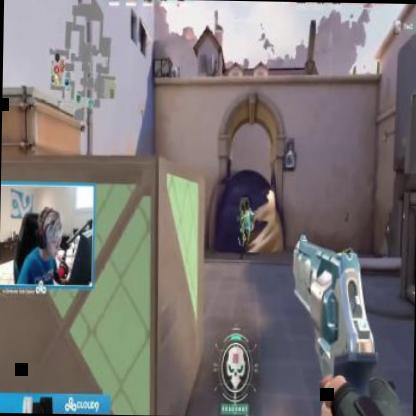enemy: (234, 194, 254, 261)
enemy_head: (242, 196, 248, 209)
